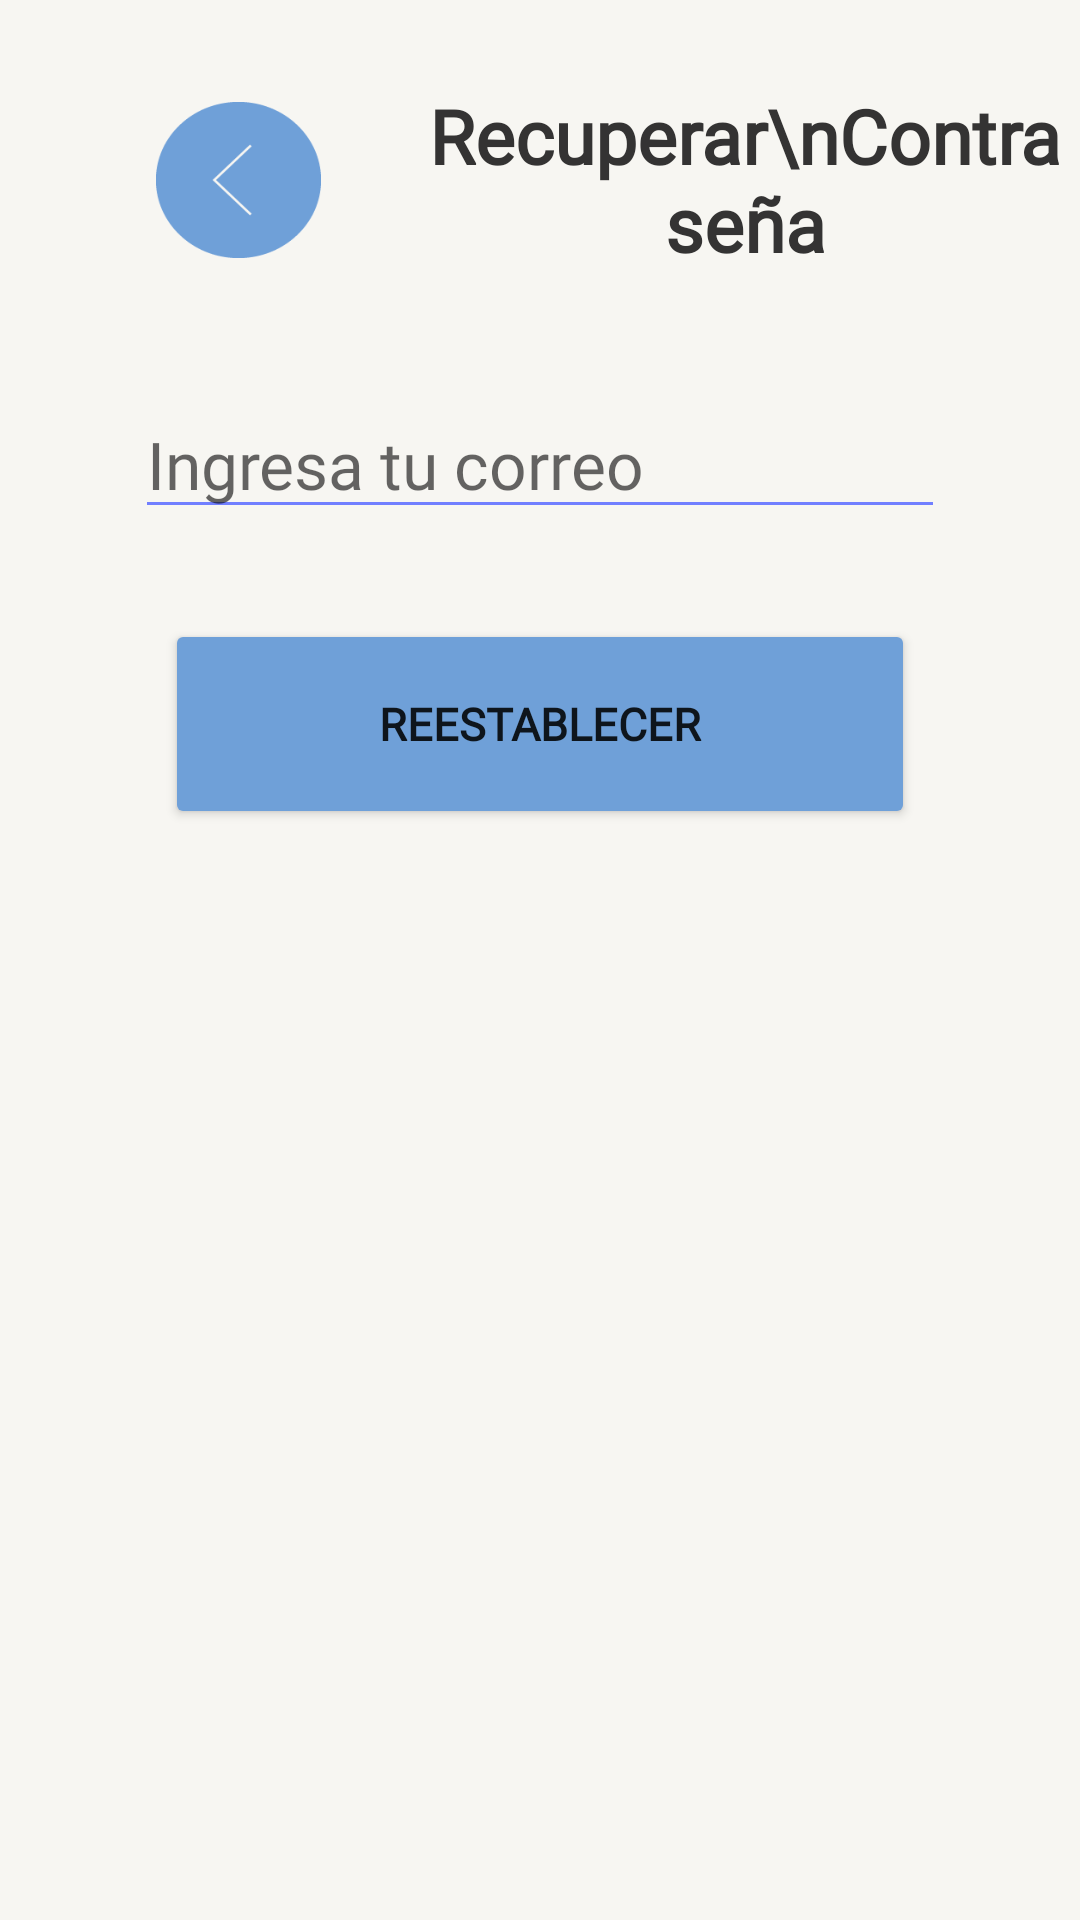

Named icons in this screenshot (1080px x 1920px) and their centers, point (x, y):
regresar xxxdpi: point (238, 180)
